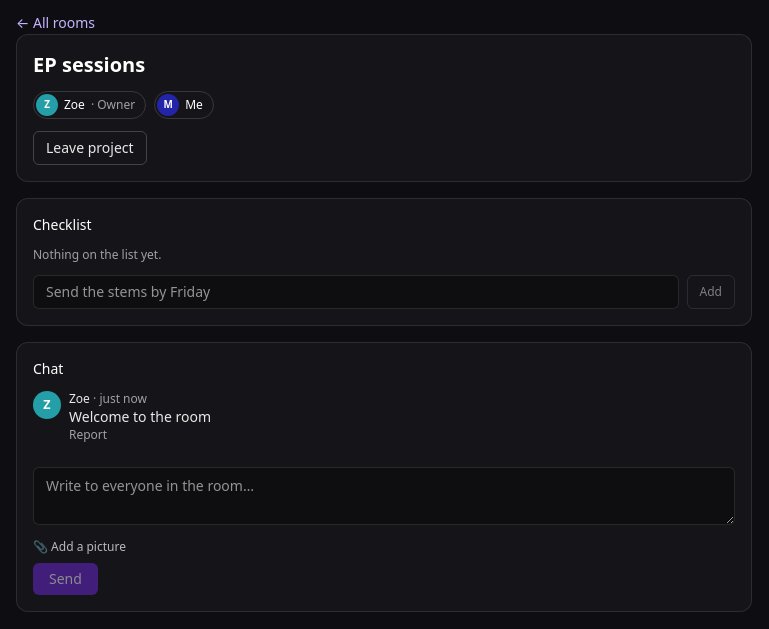
Test: ProjectPage: a member › leaves the room after asking
This screenshot has width=769, height=629.
Click the button "Leave project" at (90, 148), box top-left (33, 131), bottom-right (147, 165)
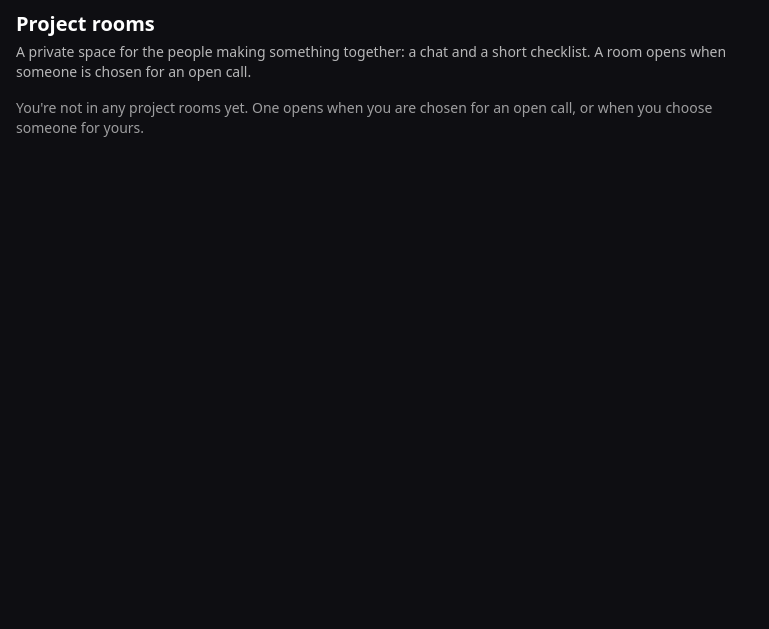
expect the text "You're not in any project rooms yet" is shown: met, box top-left (16, 98), bottom-right (712, 137)
